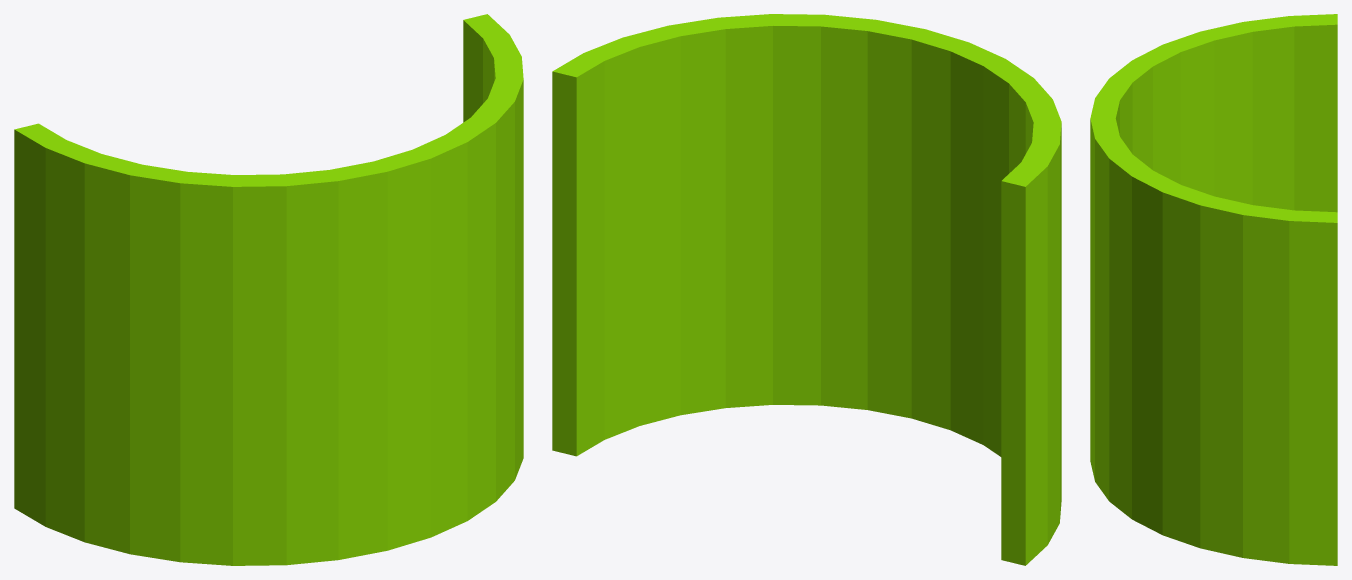
The model's file is Wall_02_Half_Bend_01.fbx.
3 renders of one model, left to right at view 1: azimuth 30°, elevation 25°; view 2: azimuth 150°, elevation 25°; view 3: azimuth 270°, elevation 25°, orthographic. The views are drawn at different scales.
Visible parts, largest first — view 1: Wall_02_Half_Bend_01; view 2: Wall_02_Half_Bend_01; view 3: Wall_02_Half_Bend_01.
Part boxes in pixels (<box>): Wall_02_Half_Bend_01: <box>14,14,523,565</box>; Wall_02_Half_Bend_01: <box>552,14,1061,565</box>; Wall_02_Half_Bend_01: <box>1090,14,1337,565</box>.
Bounding box in the file's own units: 432 × 331 × 216.
